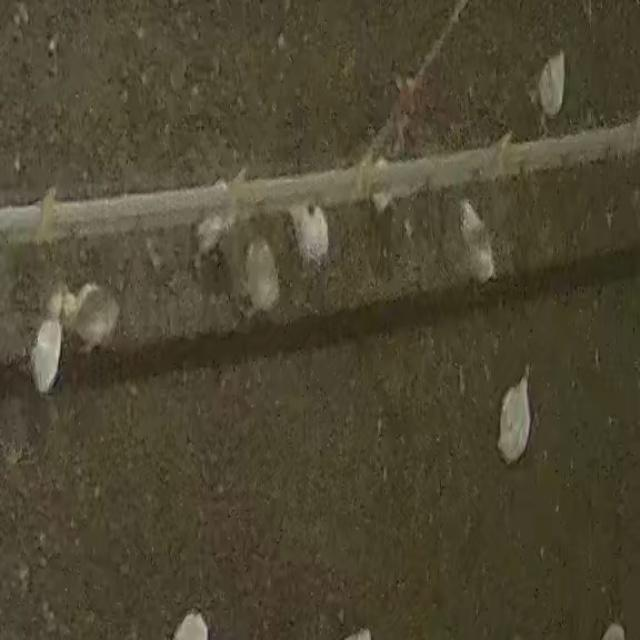chicken: (457, 197, 497, 285), (72, 282, 121, 351), (493, 379, 533, 462), (242, 236, 280, 313), (290, 202, 331, 268), (30, 318, 65, 386), (537, 50, 566, 116)
